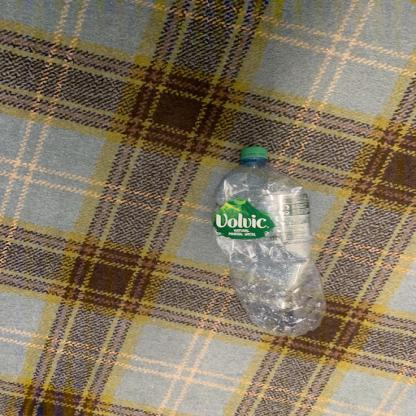plastic-bottles: (209, 143, 334, 337)
